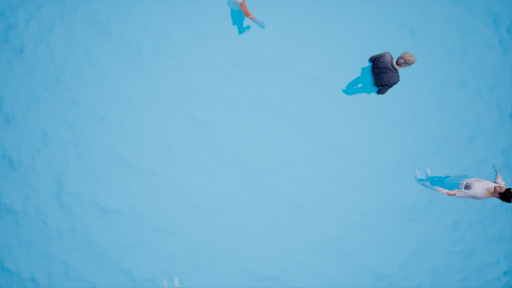person: (340, 40, 424, 106), (407, 161, 512, 209), (218, 1, 272, 42)
